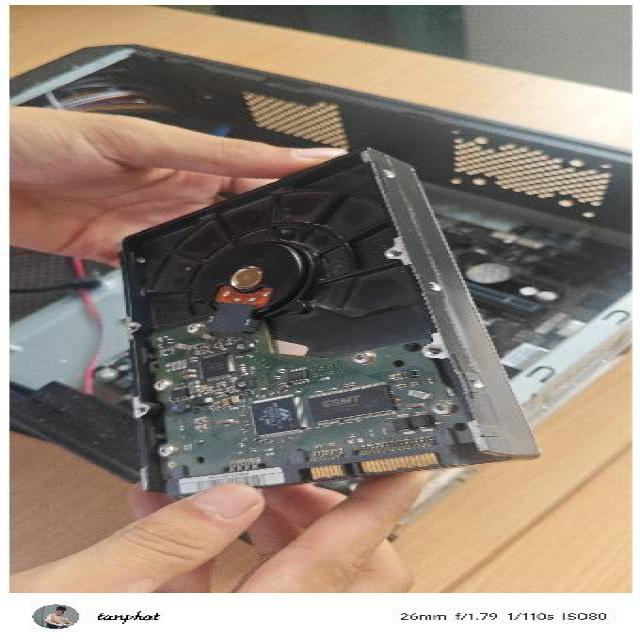DISK: (114, 144, 549, 498)
